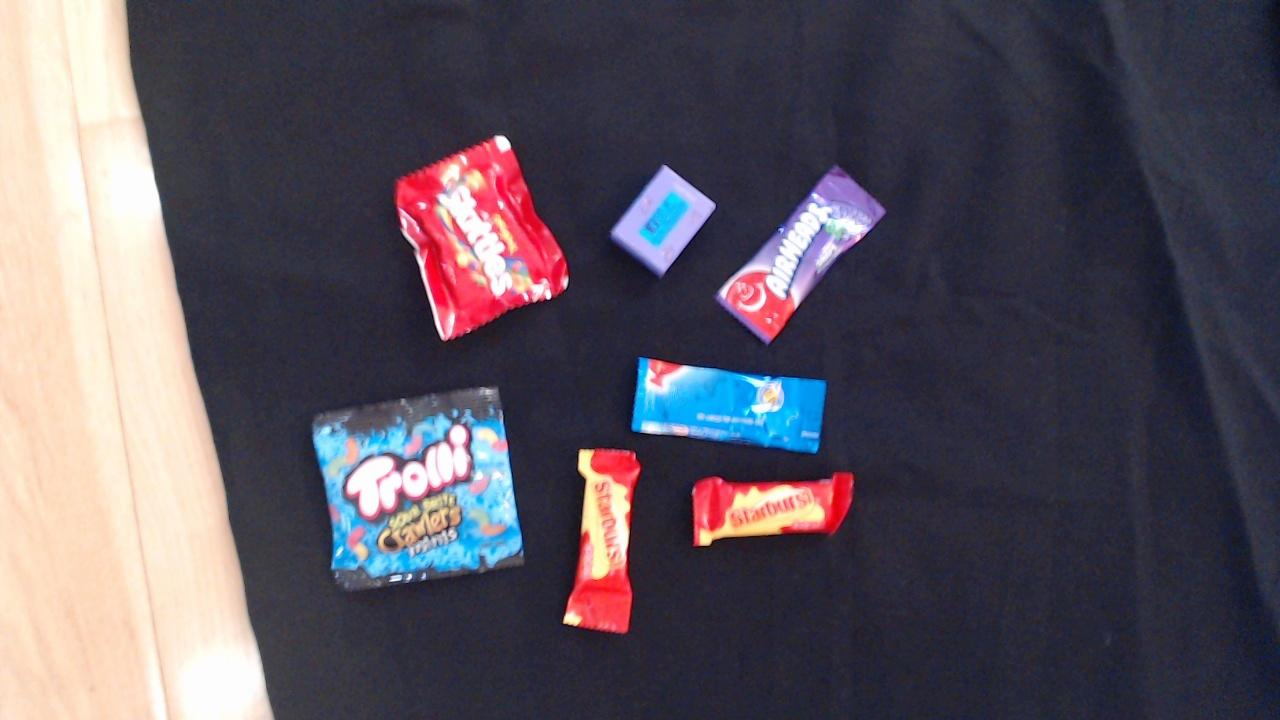Trolli: (310, 387, 524, 591)
airheads: (712, 165, 887, 345), (632, 358, 828, 454)
nerds: (607, 163, 719, 279)
skittles: (391, 135, 568, 339)
starburst: (563, 446, 638, 632), (692, 473, 855, 545)
